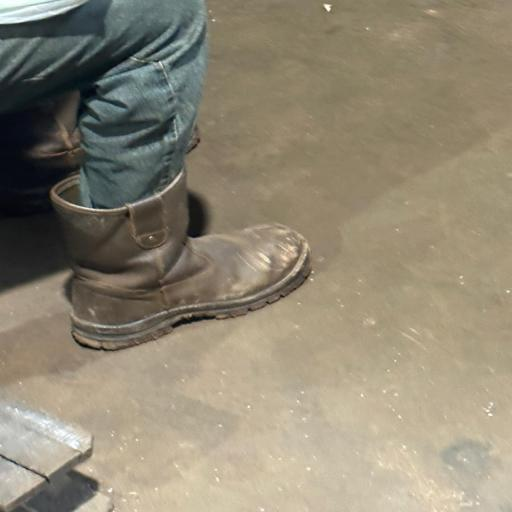safety_shoe: (24, 176, 338, 350)
